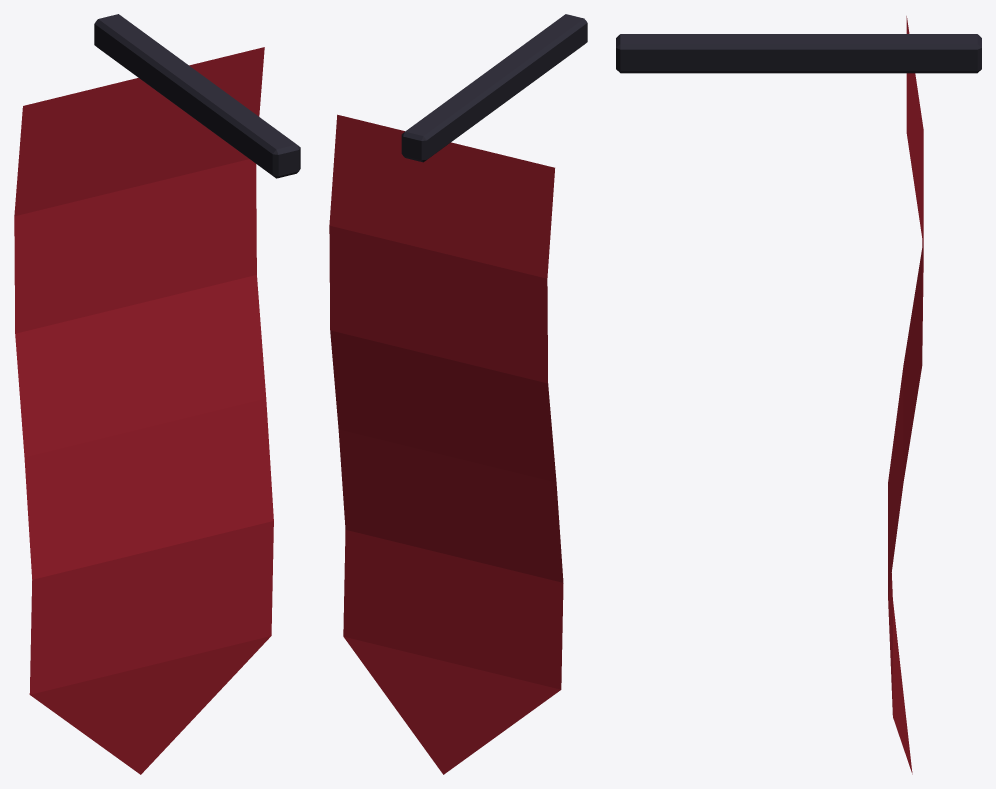
The model's file is arena_estandarte.fbx.
3 views of the same model, side by side, from view 1: azimuth 30°, elevation 25°; view 2: azimuth 150°, elevation 25°; view 3: azimuth 270°, elevation 25° (orthographic). The views are drawn at different scales.
Visible parts, largest first — view 1: arena_estandarte; view 2: arena_estandarte; view 3: arena_estandarte.
Part boxes in pixels (x1,y1,x2,y2): arena_estandarte: [14, 14, 300, 774]; arena_estandarte: [329, 14, 587, 774]; arena_estandarte: [616, 16, 981, 774].
Size of the model in its own units: 2.6 by 7.55 by 3.4.
